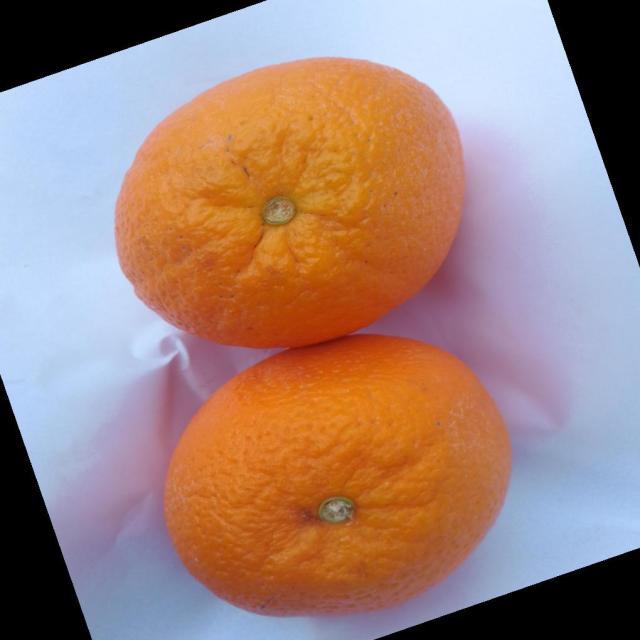fresh orange: (113, 54, 466, 350), (162, 333, 512, 618)
